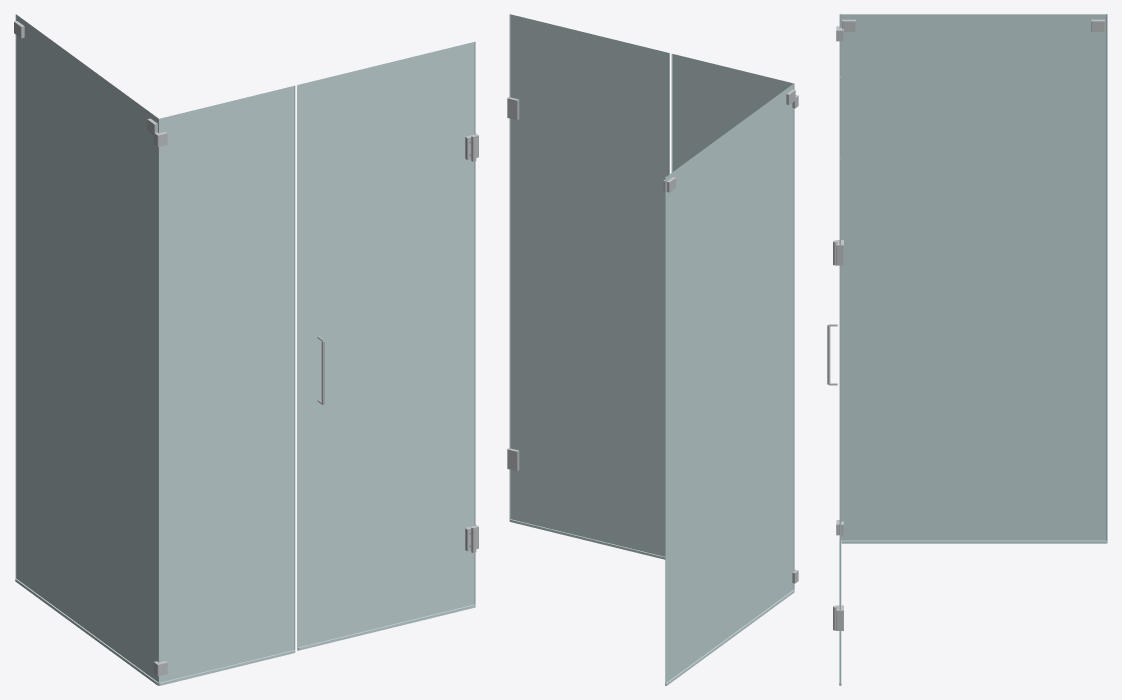
File: frameless-clear-corner-shower-enclosure-13.glb
The picture shows the model from 3 angles, left to right: view 1: azimuth 30°, elevation 25°; view 2: azimuth 150°, elevation 25°; view 3: azimuth 270°, elevation 25°; orthographic projection. The views are drawn at different scales.
Visible parts, largest first — view 1: Hinged door, Return glass / Fixed side, Fixed panel, Fixed panel glass edges, Hinged door glass edges, Return glass / Fixed side glass edges, Hinged door lower seal; view 2: Hinged door, Return glass / Fixed side, Fixed panel, Fixed panel glass edges, Hinged door glass edges, Return glass / Fixed side glass edges, Door hinge plate, Hinged door lower seal, Return glass / Fixed side lower seal; view 3: Return glass / Fixed side, Hinged door glass edges, Return glass / Fixed side lower seal, Return glass / Fixed side glass edges.
Part boxes in pixels (x1=…): Hinged door: x1=298, y1=42, x2=474, y2=647; Return glass / Fixed side: x1=16, y1=14, x2=158, y2=681; Fixed panel: x1=159, y1=86, x2=294, y2=682; Fixed panel glass edges: x1=158, y1=85, x2=295, y2=685; Hinged door glass edges: x1=297, y1=41, x2=475, y2=650; Return glass / Fixed side glass edges: x1=15, y1=14, x2=16, y2=578; Hinged door lower seal: x1=298, y1=604, x2=475, y2=650; Hinged door: x1=510, y1=14, x2=668, y2=556; Return glass / Fixed side: x1=666, y1=84, x2=793, y2=682; Fixed panel: x1=672, y1=54, x2=793, y2=171; Fixed panel glass edges: x1=671, y1=53, x2=794, y2=589; Hinged door glass edges: x1=509, y1=14, x2=669, y2=521; Return glass / Fixed side glass edges: x1=665, y1=177, x2=666, y2=685; Door hinge plate: x1=507, y1=96, x2=519, y2=471; Hinged door lower seal: x1=510, y1=519, x2=665, y2=559; Return glass / Fixed side lower seal: x1=665, y1=590, x2=794, y2=685; Return glass / Fixed side: x1=841, y1=14, x2=1106, y2=540; Hinged door glass edges: x1=839, y1=77, x2=840, y2=685; Return glass / Fixed side lower seal: x1=841, y1=540, x2=1106, y2=543; Return glass / Fixed side glass edges: x1=1106, y1=14, x2=1107, y2=543.
Size of the model in its own units: 1.17 by 1.97 by 0.946.
